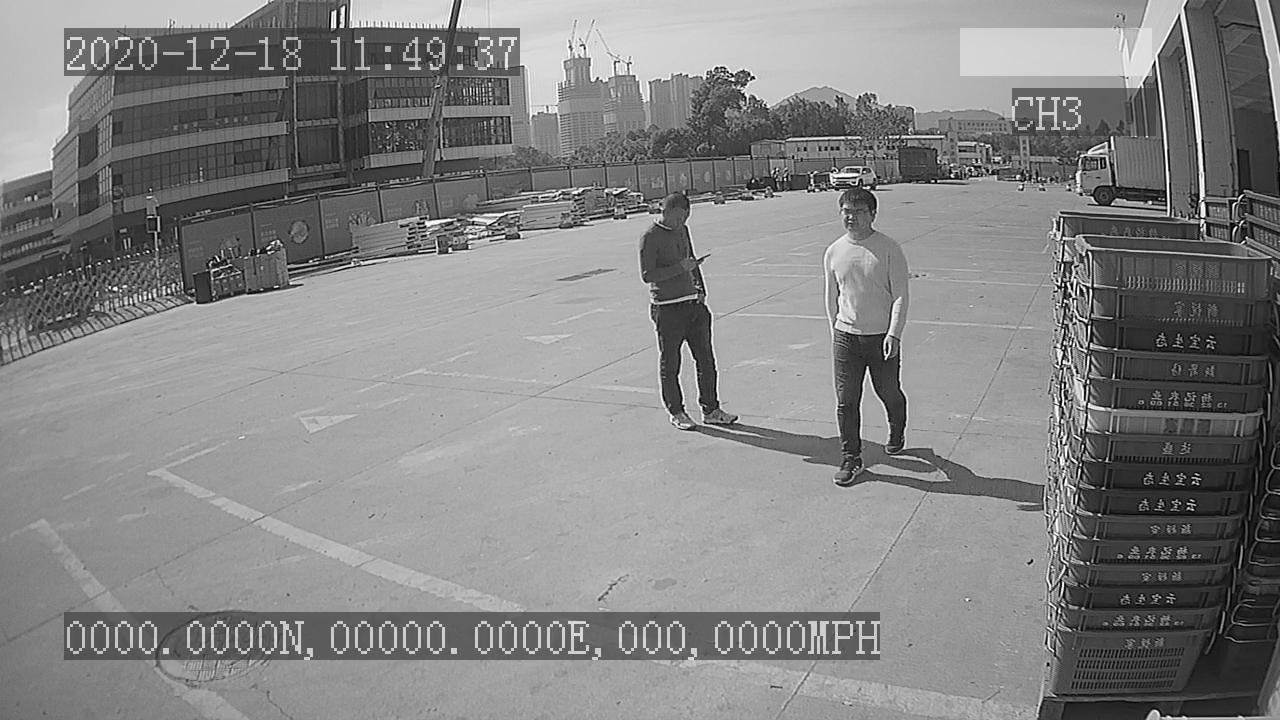person: (820, 181, 913, 488), (633, 190, 742, 431)
